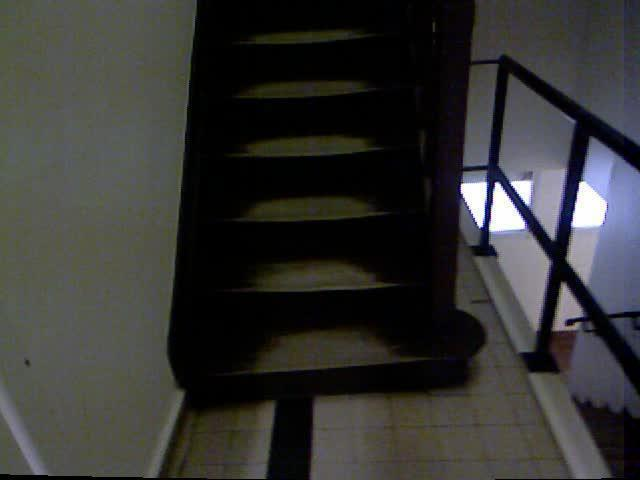Escaleras: (162, 0, 457, 389)
